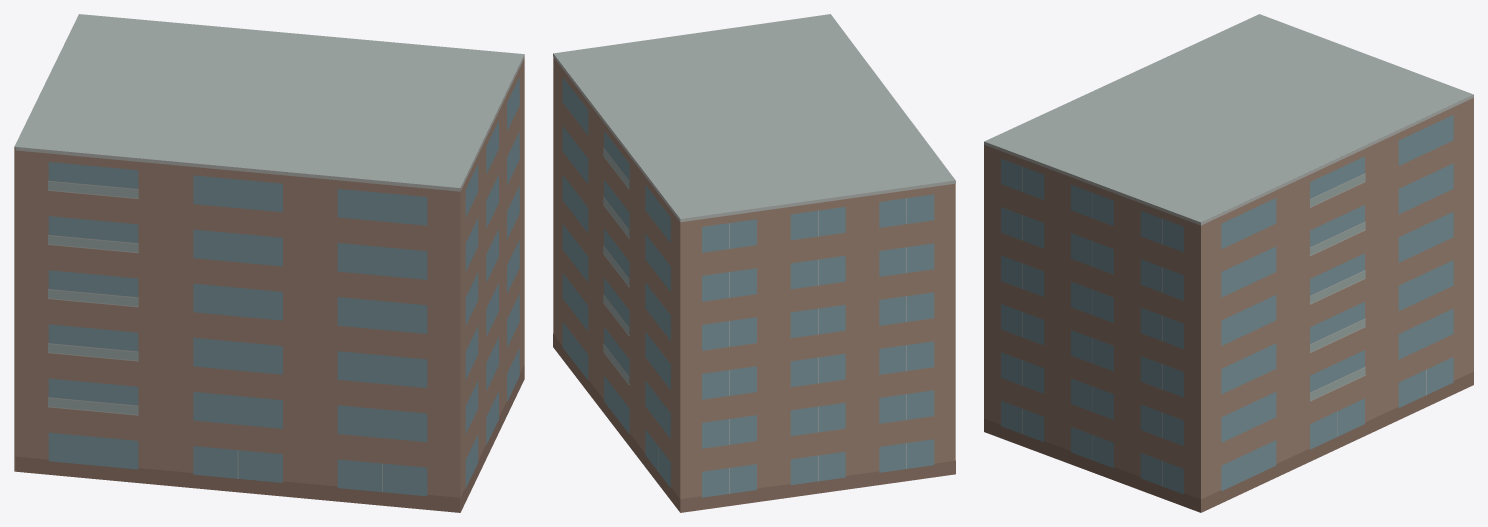
Rendered from survey-upis-32968630.glb.
The picture shows the model from 3 angles, left to right: view 1: azimuth 30°, elevation 25°; view 2: azimuth 150°, elevation 25°; view 3: azimuth 270°, elevation 25°; orthographic projection. The views are drawn at different scales.
Parts seen in each view (by area): view 1: survey-upis-32968630.tmp; view 2: survey-upis-32968630.tmp; view 3: survey-upis-32968630.tmp.
Part boxes in pixels (x1=…): survey-upis-32968630.tmp: x1=14, y1=14, x2=524, y2=512; survey-upis-32968630.tmp: x1=553, y1=14, x2=955, y2=512; survey-upis-32968630.tmp: x1=984, y1=14, x2=1473, y2=512.
Size of the model in its own units: 34.44 by 22.37 by 34.19.
